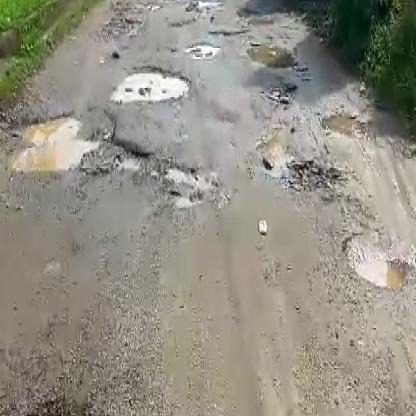pothole: (5, 107, 119, 177), (342, 229, 414, 295), (109, 64, 194, 107), (161, 164, 226, 210), (285, 157, 346, 195), (321, 105, 368, 141), (247, 39, 298, 70), (185, 39, 222, 55)
